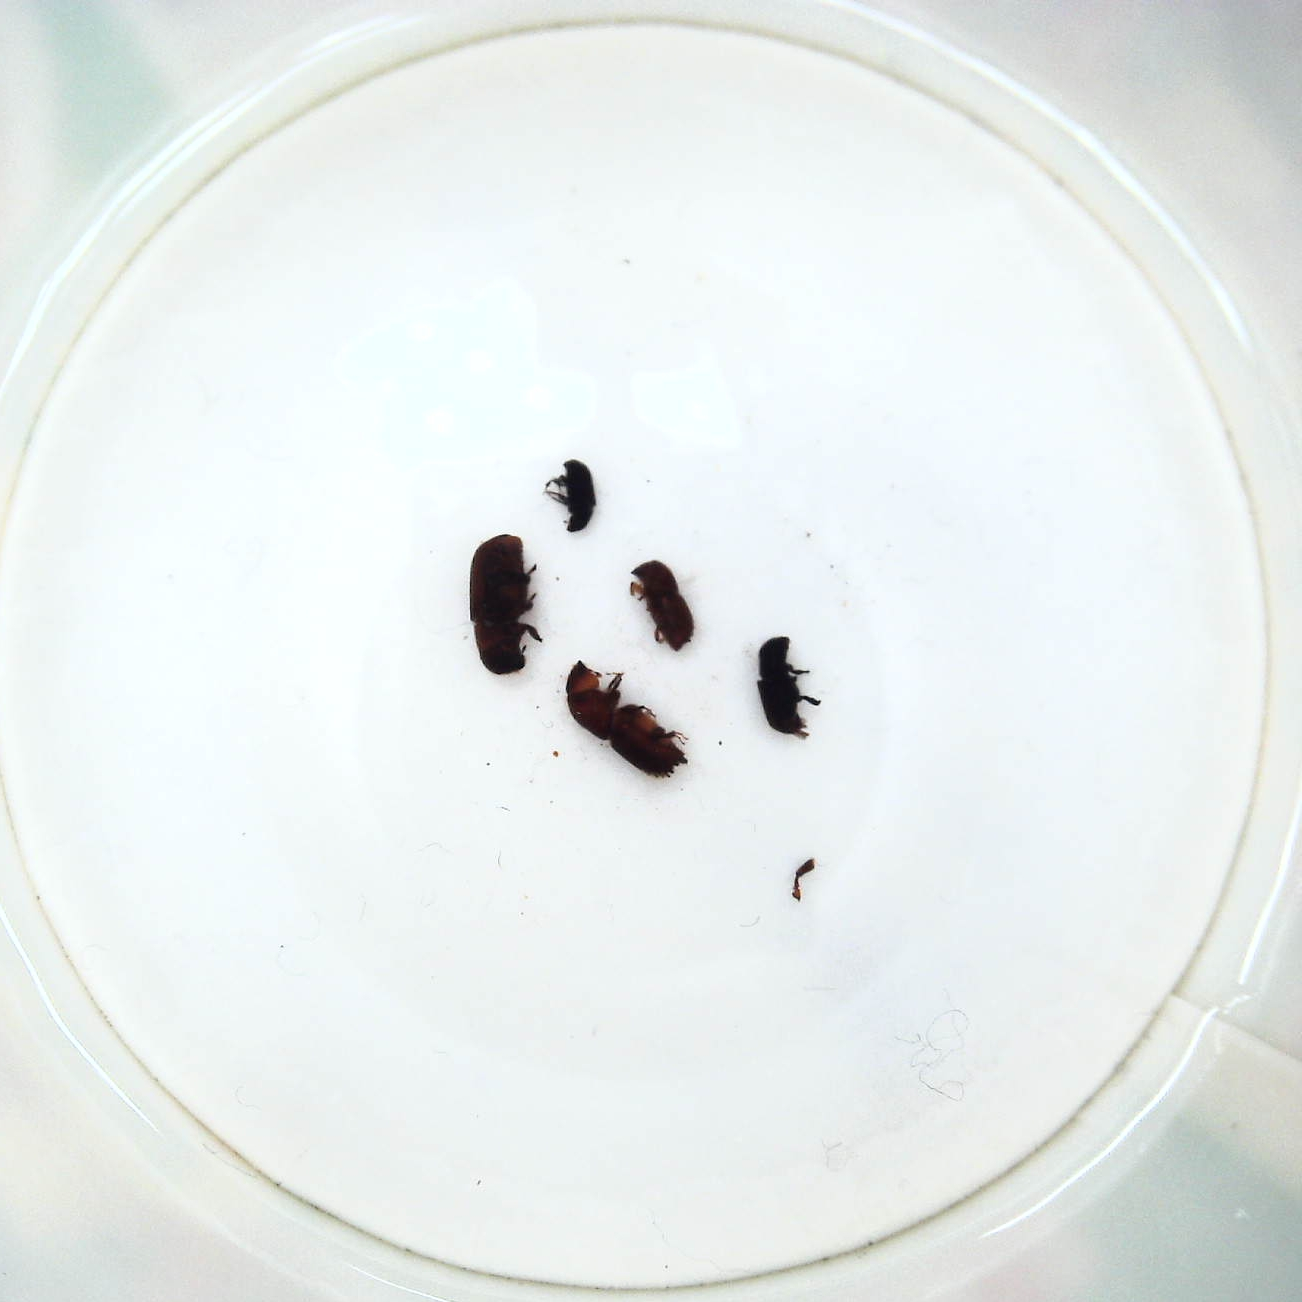Boerner: (563, 653, 695, 783)
Leconte: (463, 529, 546, 680)
armandi: (754, 634, 829, 746)
coleoptera: (542, 449, 604, 542)
linnaeus: (627, 556, 697, 656)
